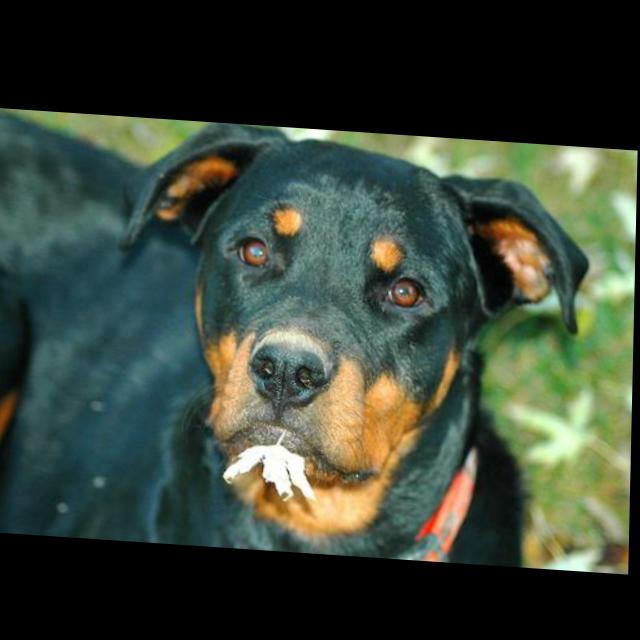rottweiler: (1, 109, 595, 564)
